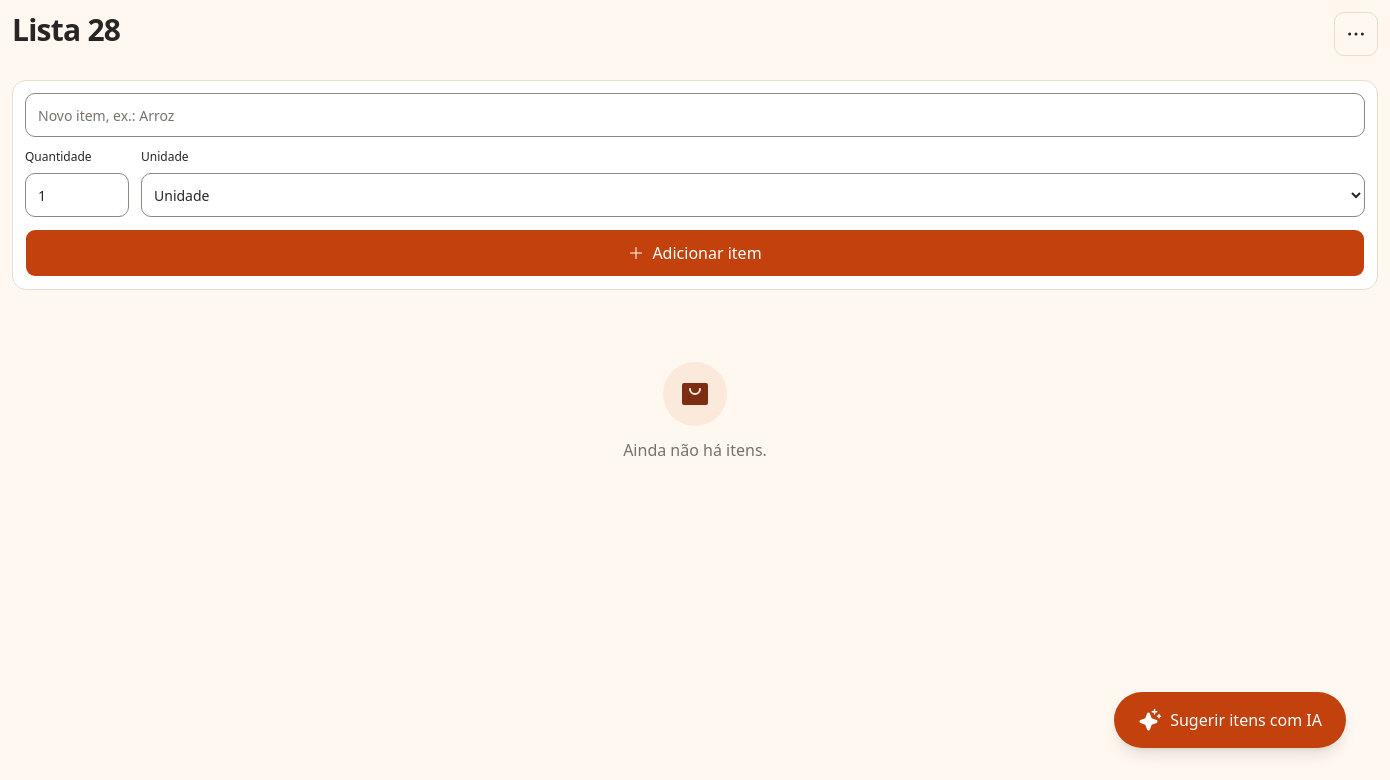
ShopperListDetailView › adds an item through the form
The width and height of the screenshot is (1390, 780).
expect the text "Ainda não há itens." is shown: met, box left=623, top=438, right=767, bottom=462
Type "Leite" into the field named "Nome do item". click: (695, 115)
box: left=25, top=93, right=1365, bottom=137
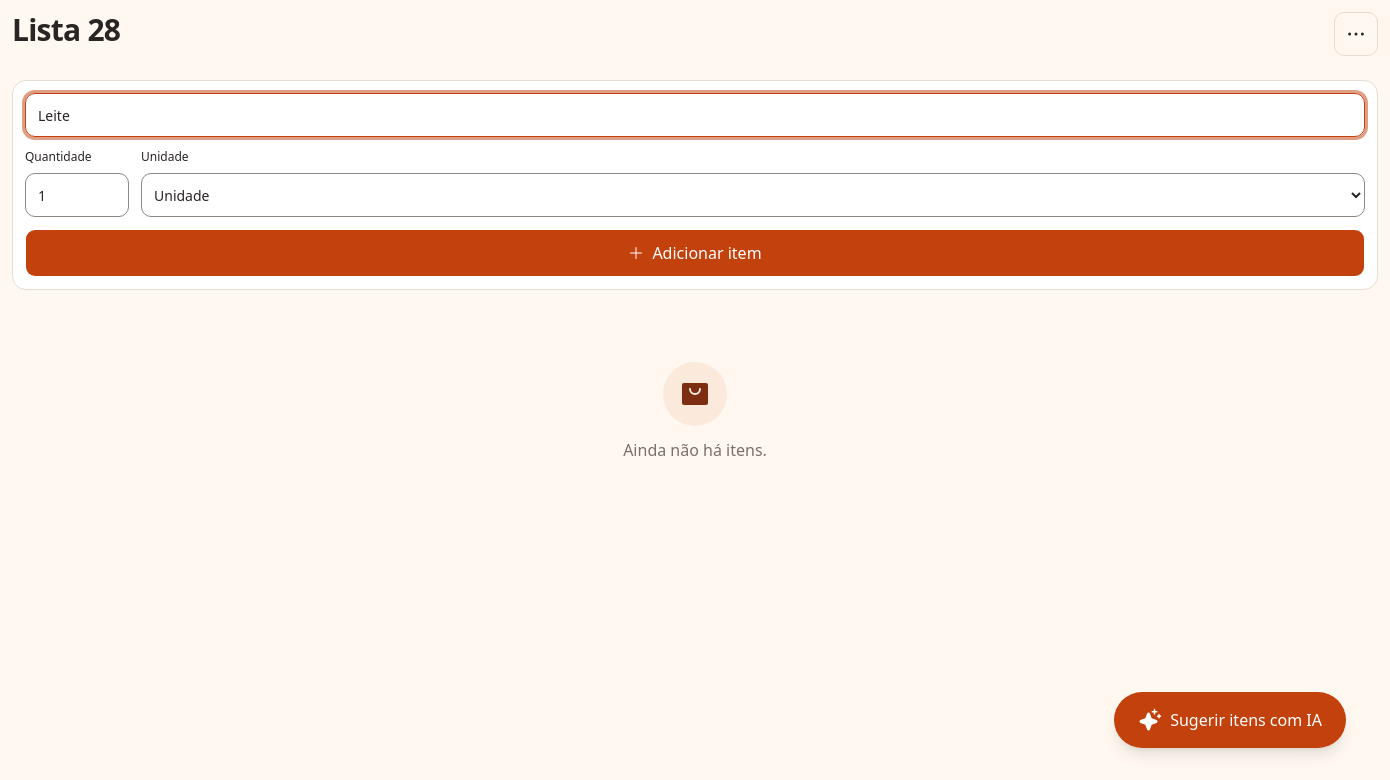
Replace the text in the field labelled "Quantidade" with "3". click: (77, 195)
box: left=25, top=173, right=129, bottom=217
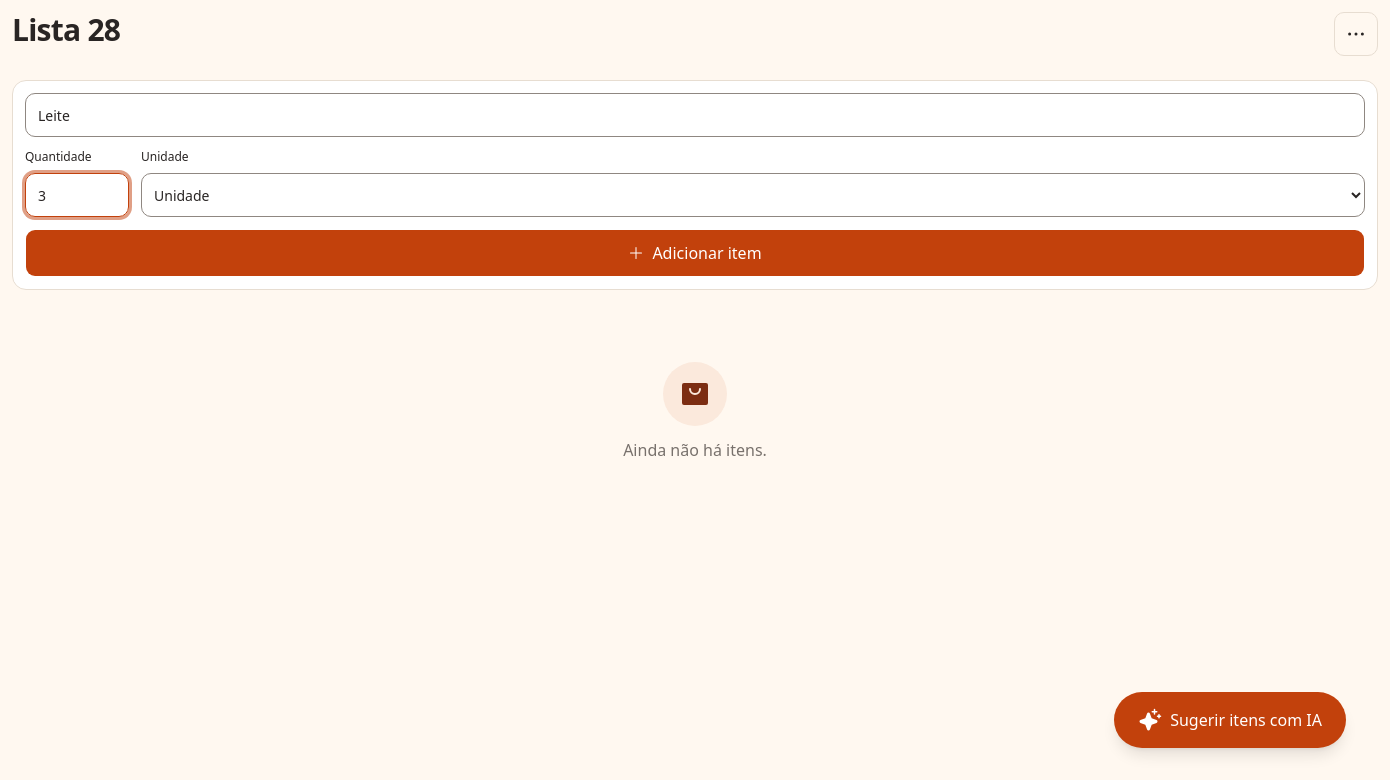
Click the button "Adicionar item". click: (695, 253)
box: left=25, top=229, right=1365, bottom=277
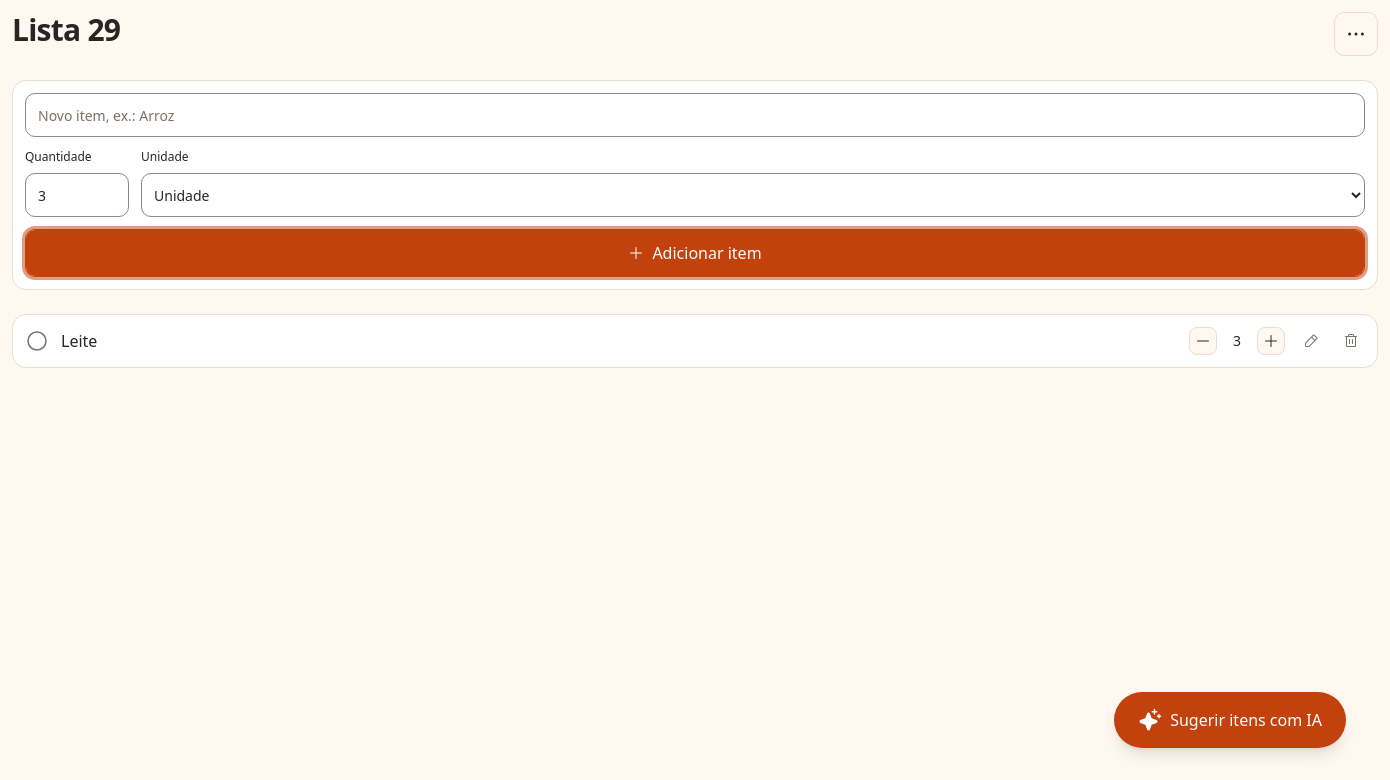
expect the text "Leite" is shown: met, box left=61, top=330, right=97, bottom=352
expect the field named "Nome do item" is empty: met, box left=25, top=93, right=1365, bottom=137
